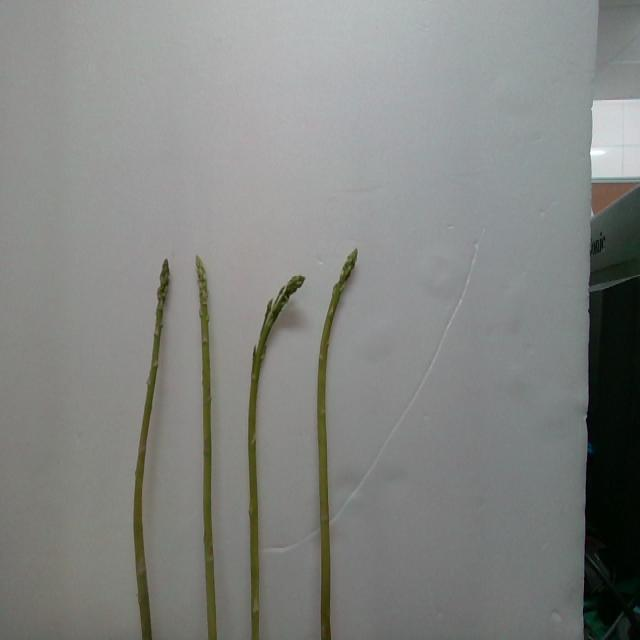aspargus: (245, 276, 304, 640), (316, 251, 358, 640), (135, 264, 172, 640), (195, 259, 219, 640)
